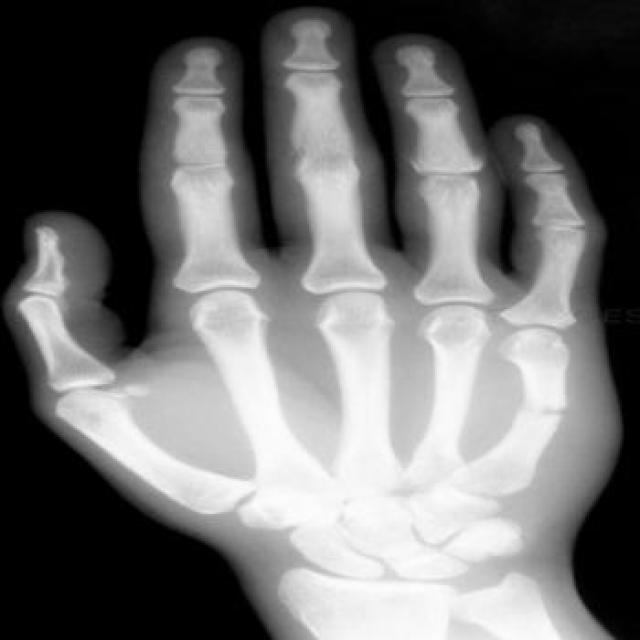Fracture: (497, 396, 598, 432)
